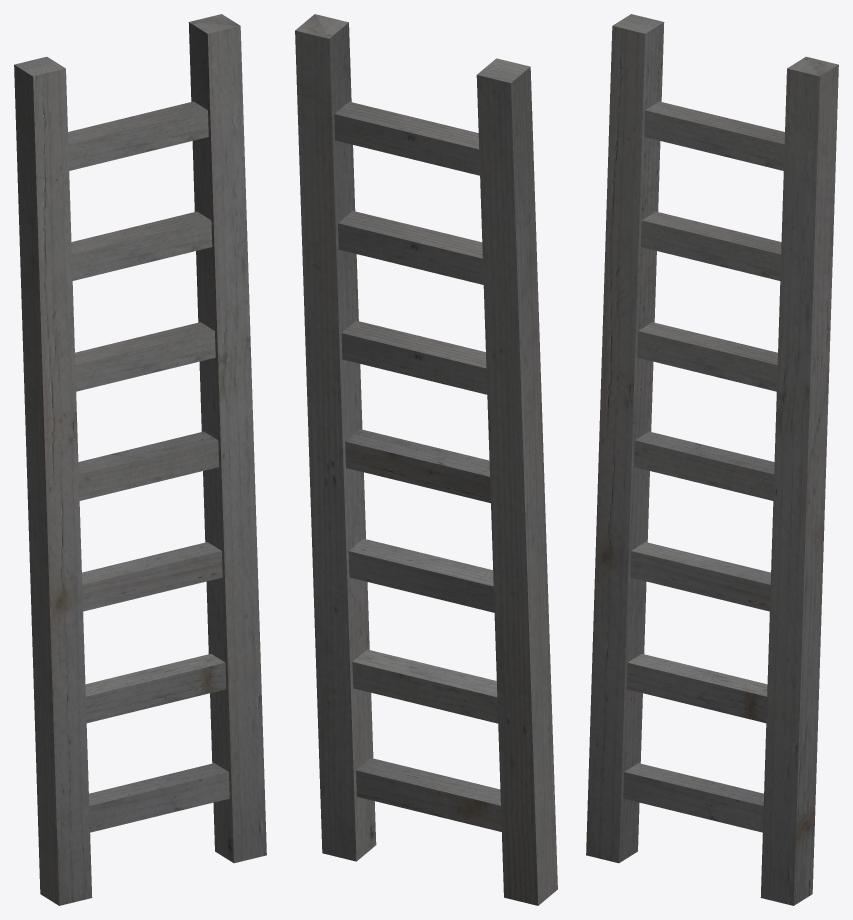
File: LadderUp.glb
3 renders of one model, left to right at view 1: azimuth 30°, elevation 25°; view 2: azimuth 150°, elevation 25°; view 3: azimuth 330°, elevation 25°, orthographic. The views are drawn at different scales.
Parts seen in each view (by area): view 1: LadderUp; view 2: LadderUp; view 3: LadderUp.
Boxes of the visible parts, x1,y1,x2,y2 form: LadderUp: (14,14,266,905); LadderUp: (295,14,557,905); LadderUp: (586,14,838,905).
Bounding box in the file's own units: 0.8073 × 3.02 × 0.3044.
Materials: 1 (1 with a texture image).
